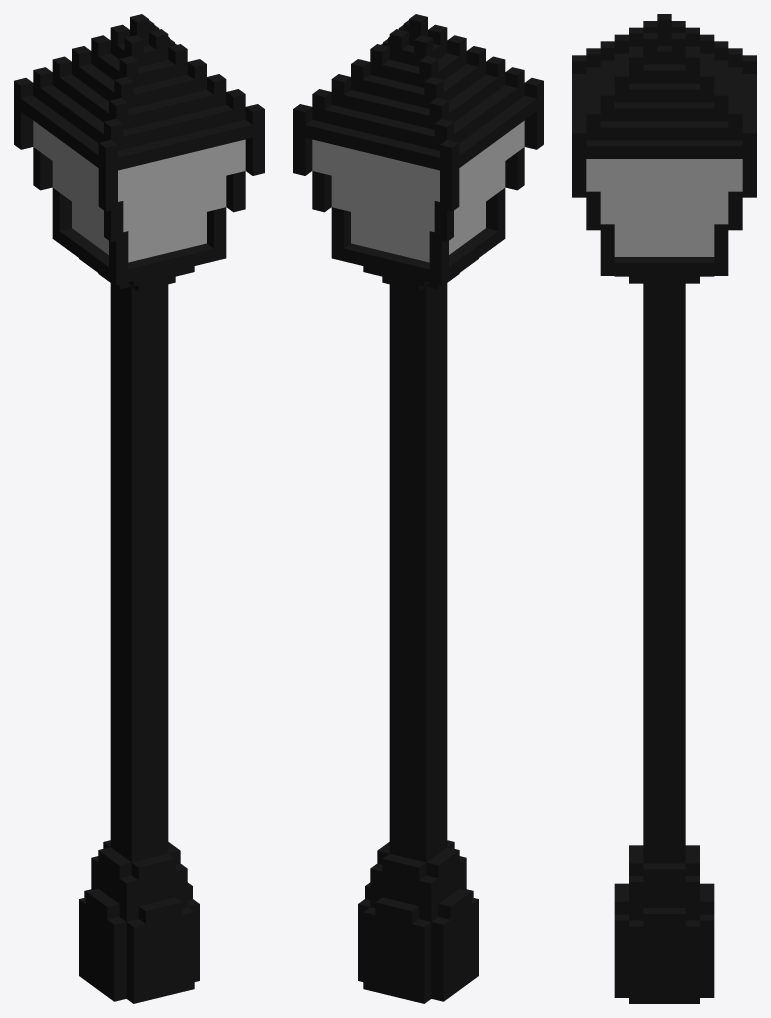
Rendered from lamppost.obj.
3 views of the same model, side by side, from view 1: azimuth 30°, elevation 25°; view 2: azimuth 150°, elevation 25°; view 3: azimuth 270°, elevation 25° (orthographic).
Parts seen in each view (by area): view 1: lamppost; view 2: lamppost; view 3: lamppost.
Boxes of the visible parts, x1,y1,x2,y2 form: lamppost: (14, 14, 264, 1003); lamppost: (293, 14, 543, 1003); lamppost: (572, 14, 756, 1003).
Size of the model in its own units: 13 by 75 by 13.
1 material, 1 textured.
